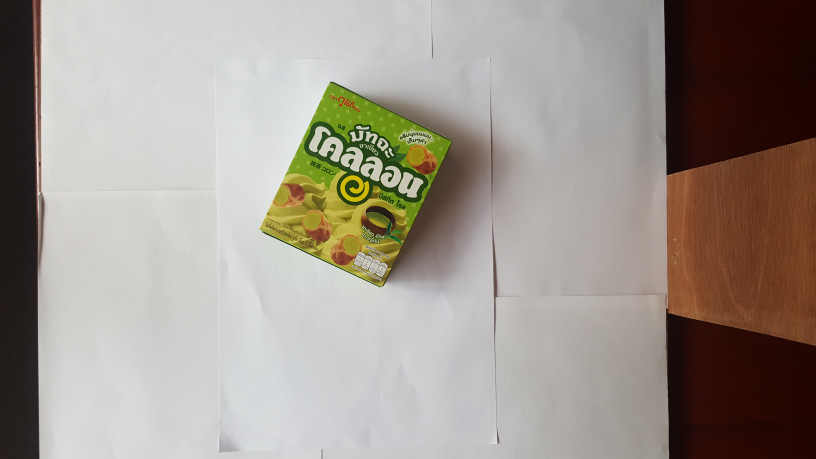collon-matcha: (259, 81, 451, 288)
